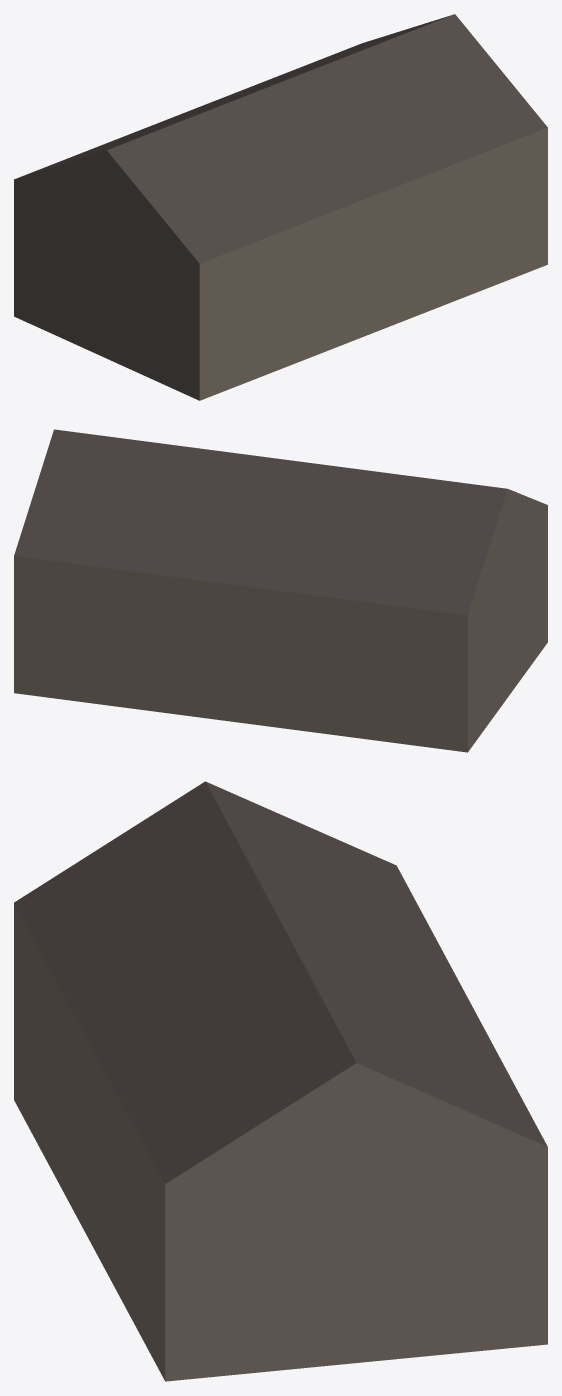
The picture shows the model from 3 angles, top to bottom: view 1: azimuth 30°, elevation 25°; view 2: azimuth 150°, elevation 25°; view 3: azimuth 270°, elevation 25°; orthographic projection. The views are drawn at different scales.
Parts seen in each view (by area): view 1: HP-w1367350948; view 2: HP-w1367350948; view 3: HP-w1367350948.
Part boxes in pixels (x1,y1,x2,y2): HP-w1367350948: (14, 14, 547, 400); HP-w1367350948: (14, 429, 547, 752); HP-w1367350948: (14, 781, 547, 1381).
Bounding box in the file's own units: 20.78 × 9.12 × 14.71.
